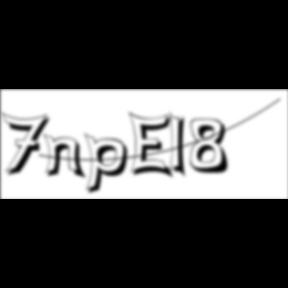7: (2, 111, 56, 179)
8: (190, 117, 236, 176)
E: (128, 110, 178, 182)
I: (169, 110, 193, 182)
n: (42, 132, 90, 181)
p: (85, 132, 135, 198)
